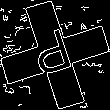P_S: (29, 25, 81, 85)
